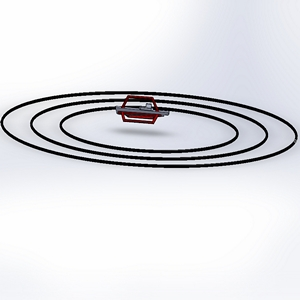circle: (1, 77, 300, 173)
submarine: (114, 90, 171, 131)
